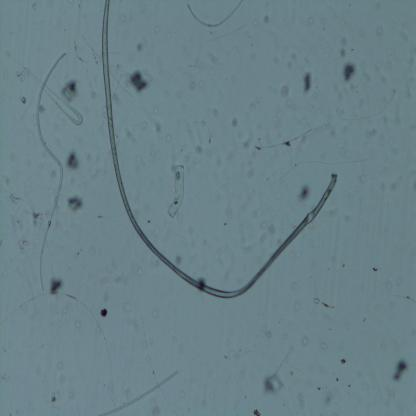Background material: (255, 121, 319, 150), (264, 346, 294, 393), (168, 161, 190, 224), (58, 69, 81, 104), (130, 72, 152, 98), (72, 37, 90, 67), (119, 123, 137, 147), (185, 50, 206, 70), (197, 116, 212, 143), (393, 358, 408, 384), (341, 62, 357, 86), (300, 69, 314, 96), (42, 390, 60, 409), (88, 72, 99, 100), (336, 33, 348, 58), (14, 63, 30, 81), (147, 397, 162, 416), (296, 180, 310, 200), (280, 83, 292, 106), (315, 296, 334, 310), (68, 150, 80, 172), (390, 172, 404, 190), (31, 210, 44, 228), (249, 160, 260, 181), (57, 364, 68, 385), (18, 235, 30, 254), (386, 276, 402, 290), (68, 196, 82, 212), (360, 68, 373, 84), (154, 118, 165, 136), (242, 133, 253, 149), (11, 191, 24, 204), (378, 112, 390, 126), (121, 377, 130, 395), (296, 393, 306, 408), (366, 130, 381, 139), (17, 92, 27, 105), (242, 245, 255, 254), (238, 224, 244, 243), (338, 104, 346, 118), (330, 126, 338, 140), (263, 324, 271, 338), (137, 118, 146, 130), (259, 219, 268, 231), (102, 289, 110, 302), (100, 307, 108, 320), (375, 23, 382, 37), (66, 385, 74, 397), (374, 59, 382, 71), (92, 49, 98, 65), (50, 167, 58, 179), (231, 115, 238, 128), (324, 394, 333, 404), (0, 372, 10, 381), (264, 14, 272, 25), (212, 105, 220, 116), (164, 131, 172, 142), (153, 23, 161, 34), (110, 257, 118, 267), (61, 304, 69, 314), (196, 145, 203, 156), (190, 78, 197, 89), (270, 224, 276, 236), (72, 320, 81, 328), (261, 231, 267, 242), (252, 408, 260, 416), (405, 294, 413, 302), (174, 256, 182, 264), (340, 356, 347, 365), (137, 268, 143, 278), (179, 388, 185, 398), (308, 16, 314, 26), (302, 336, 308, 346), (126, 304, 133, 312), (253, 22, 260, 30), (372, 266, 379, 274), (136, 44, 143, 52), (250, 105, 260, 110), (3, 346, 9, 354), (198, 80, 204, 88), (33, 3, 37, 13), (382, 75, 387, 83), (287, 61, 292, 69), (96, 214, 104, 219), (362, 317, 368, 323), (274, 58, 280, 64), (151, 309, 156, 316), (6, 178, 10, 186), (341, 262, 345, 268), (317, 386, 321, 392), (335, 377, 339, 382), (225, 355, 228, 360), (348, 384, 351, 388), (245, 394, 247, 398)
Glass filter fibre: (37, 49, 67, 292), (101, 368, 178, 416), (184, 0, 247, 32), (47, 87, 86, 129)
Microfibre: (99, 0, 343, 304)
